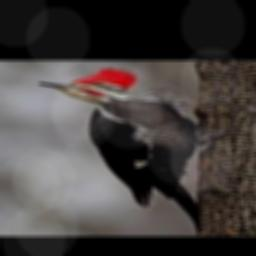Woodpecker: (39, 68, 241, 235)
